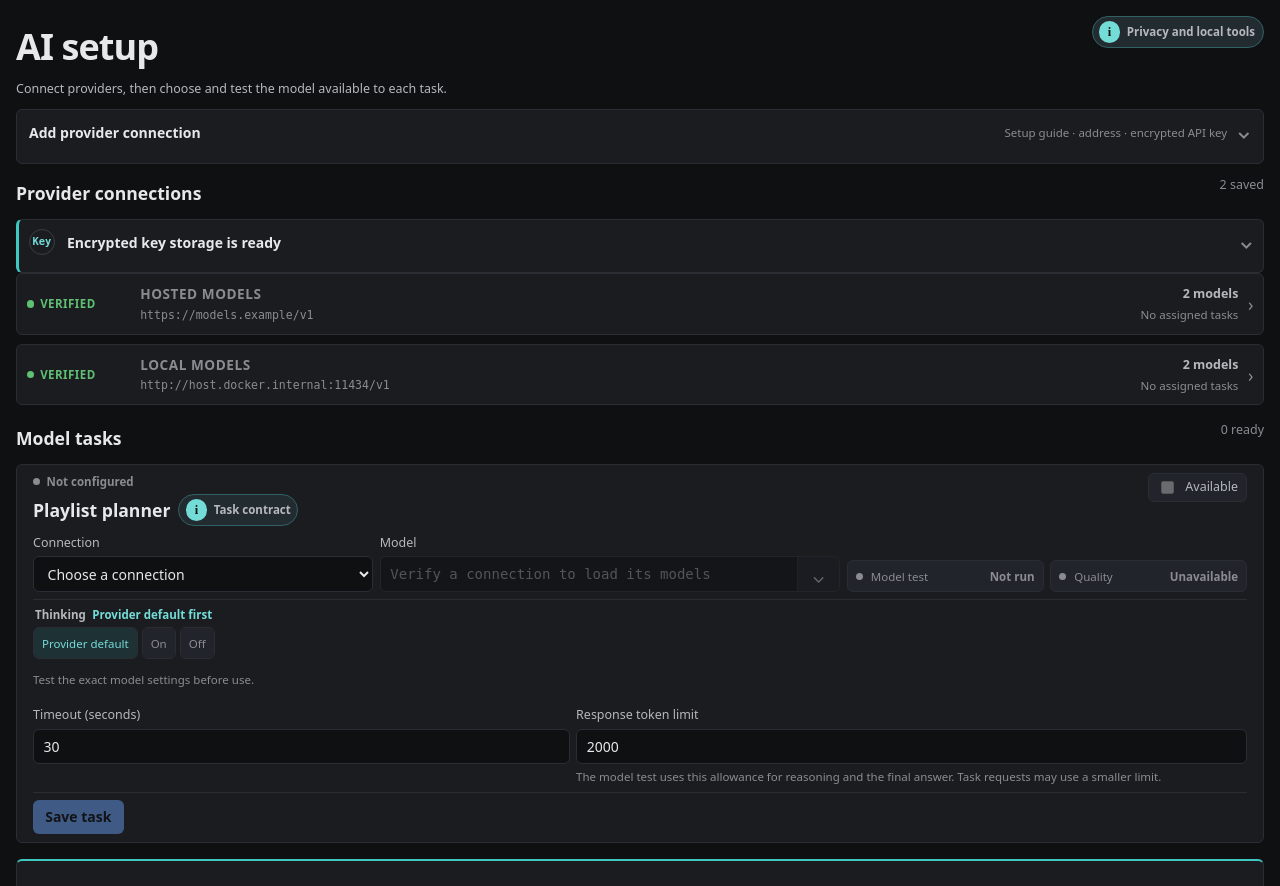
AssistantAiSetupView › shows only the models verified for the selected connection
Select "Hosted models · ••••1234 · verified" in the dropdown labelled "Connection" at (203, 574), box [33, 556, 373, 592]
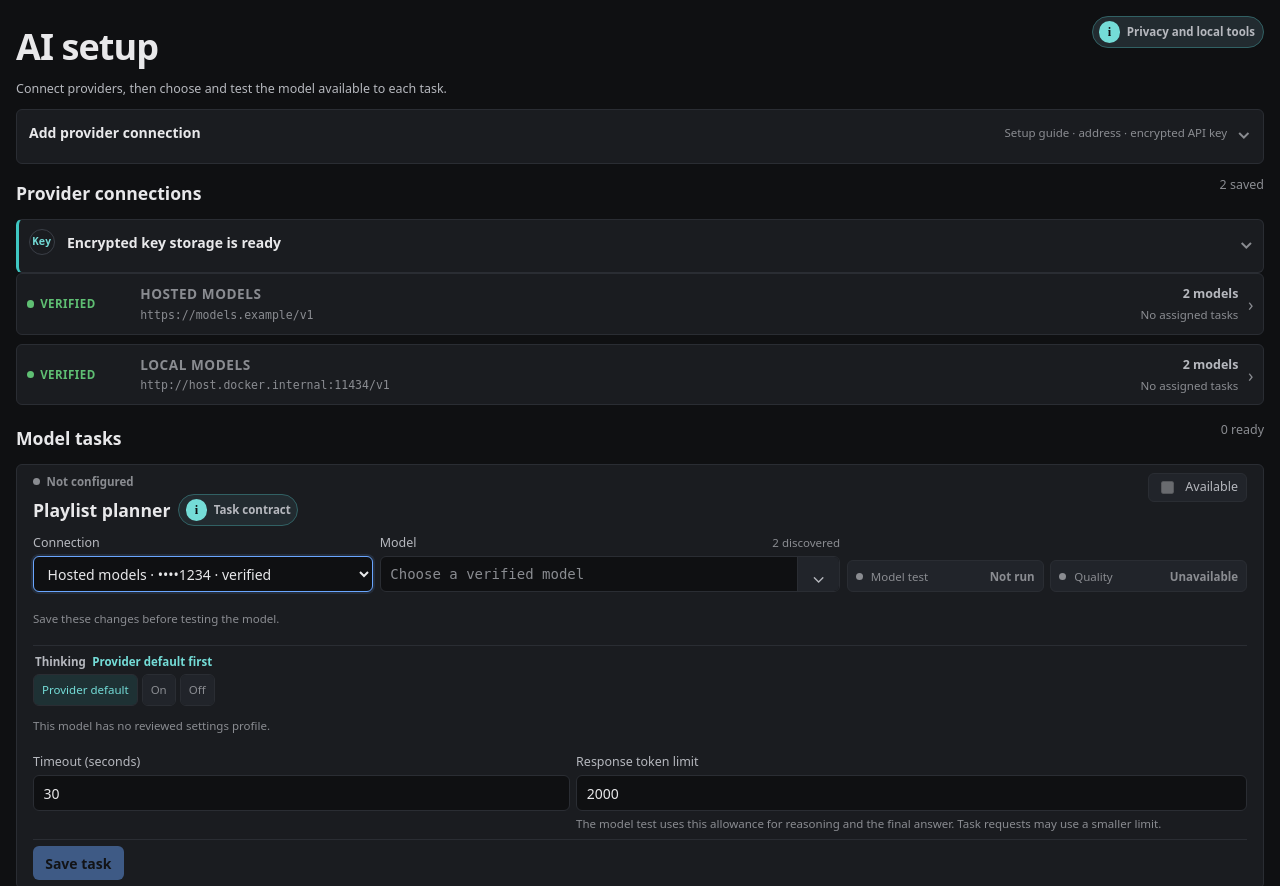
Click the dropdown labelled "Model" at (610, 574), box [380, 556, 840, 592]
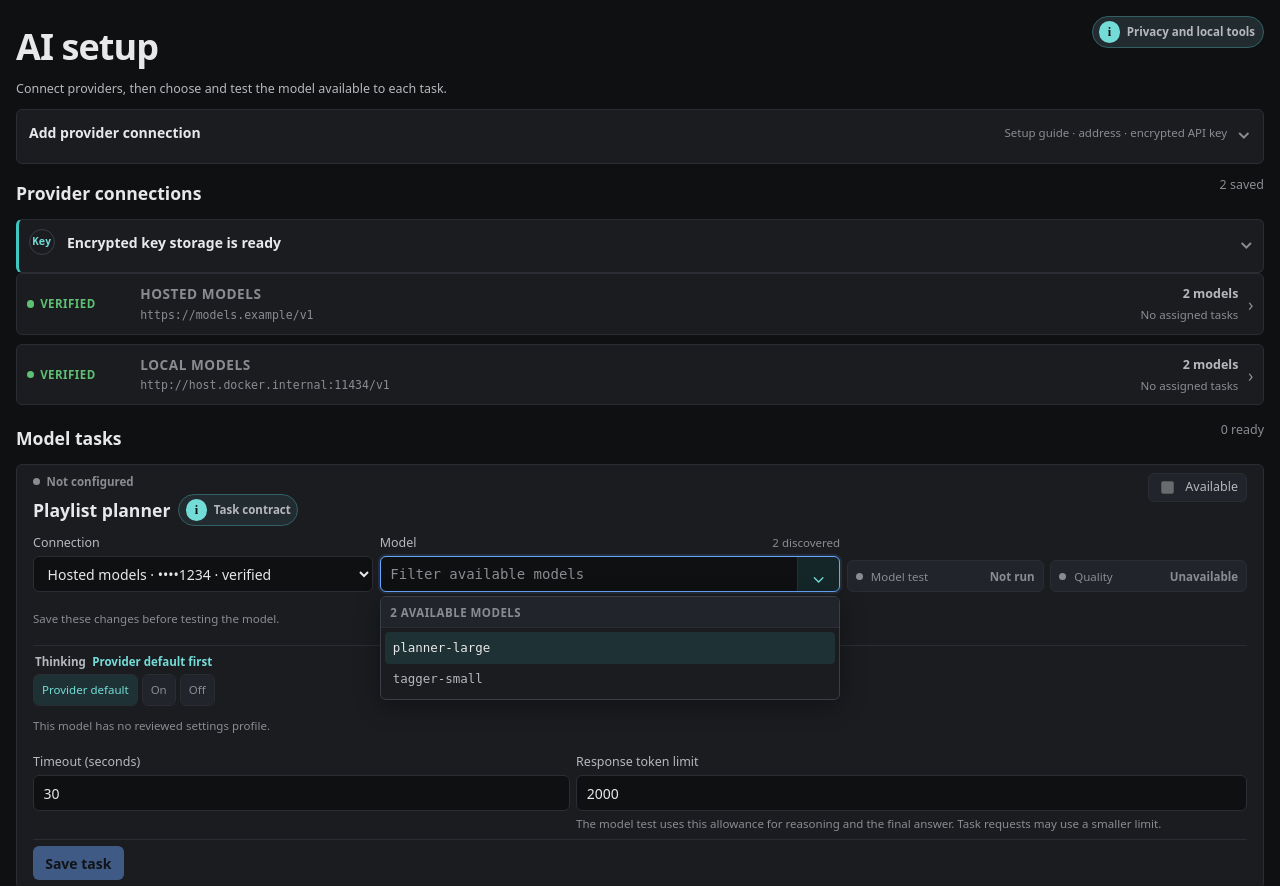
Expected: the option "local-instruct" is not shown
Now the option "planner-large" is shown, box [385, 632, 835, 664]
Press Escape
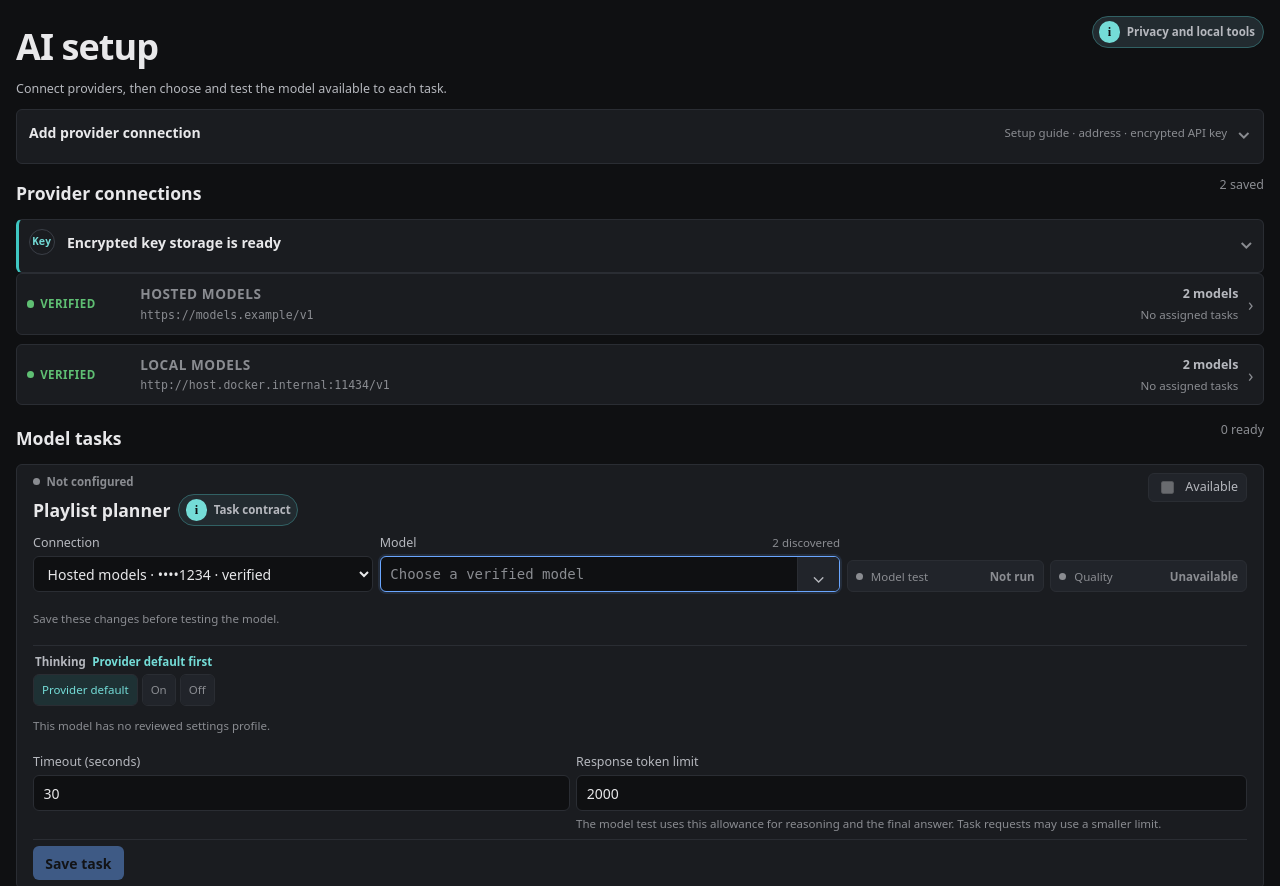
Select "Local models · ••••1234 · verified" in the dropdown labelled "Connection" at (203, 574), box [33, 556, 373, 592]
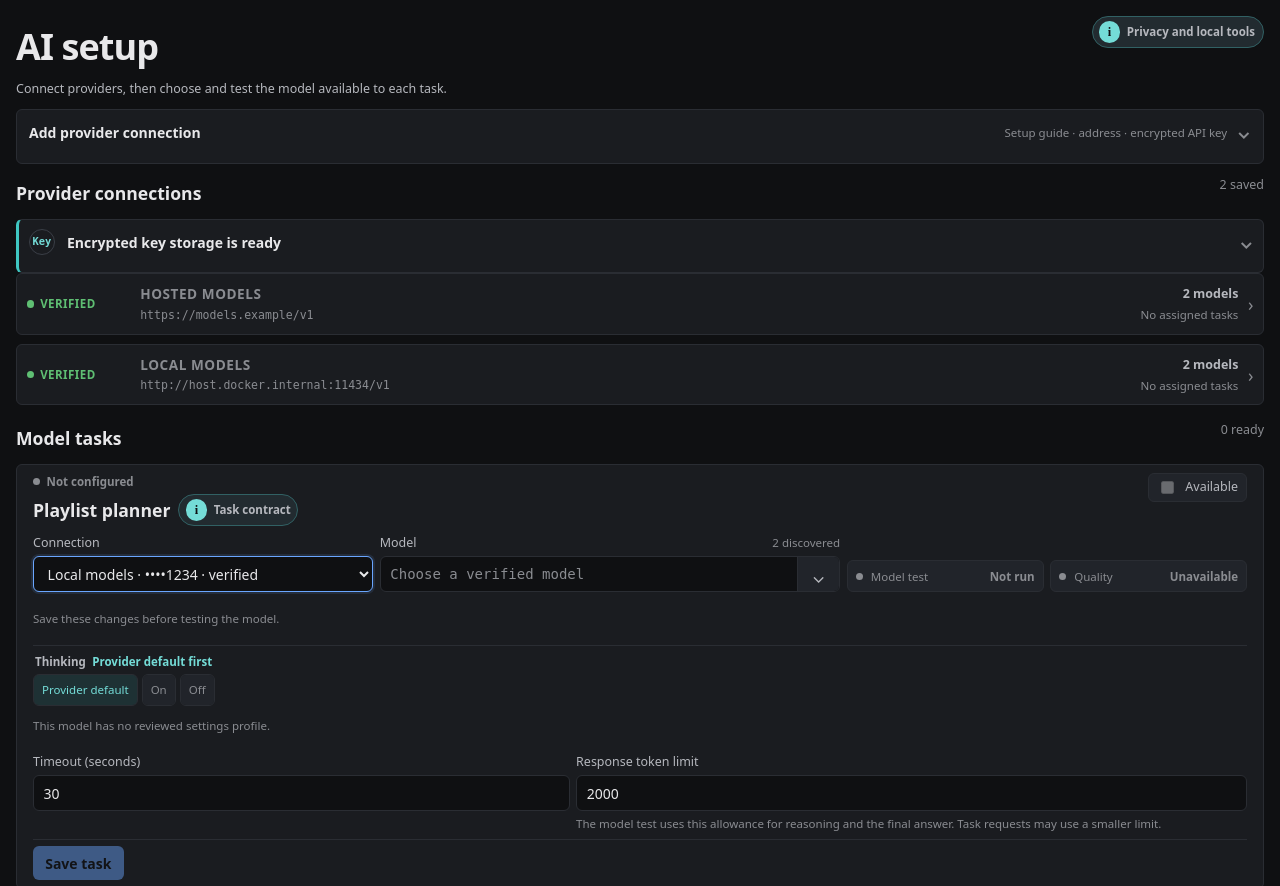
Click the dropdown labelled "Model" at (610, 574), box [380, 556, 840, 592]
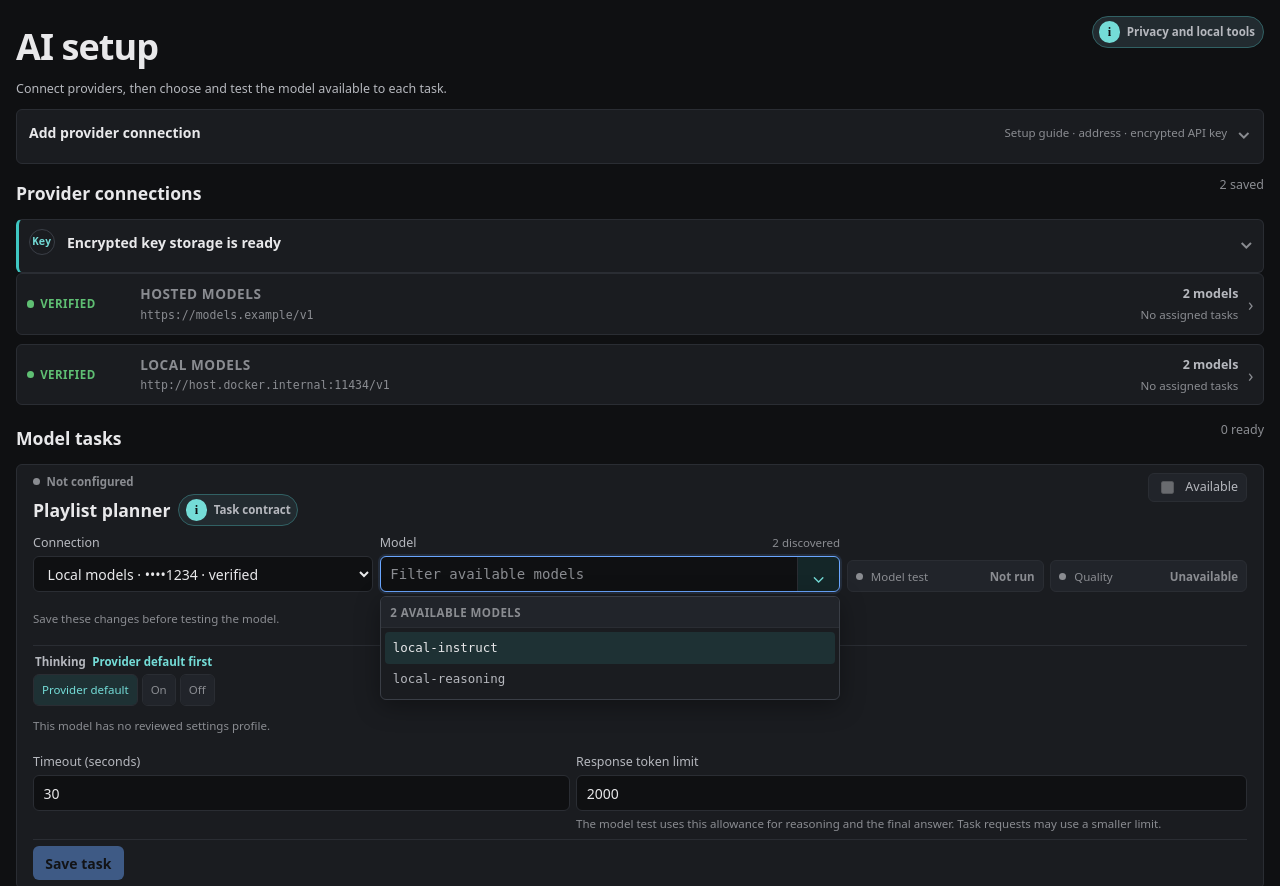
Expected: the option "planner-large" is not shown
Now the option "local-instruct" is shown, box [385, 632, 835, 664]
